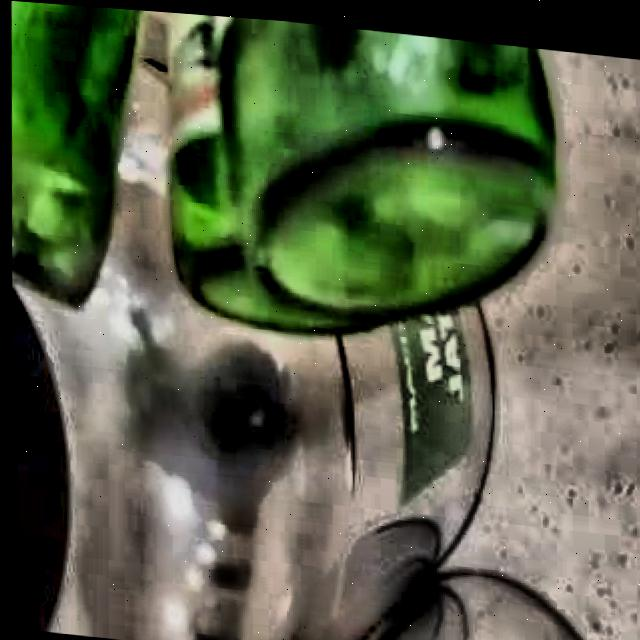glass: (169, 10, 555, 328)
